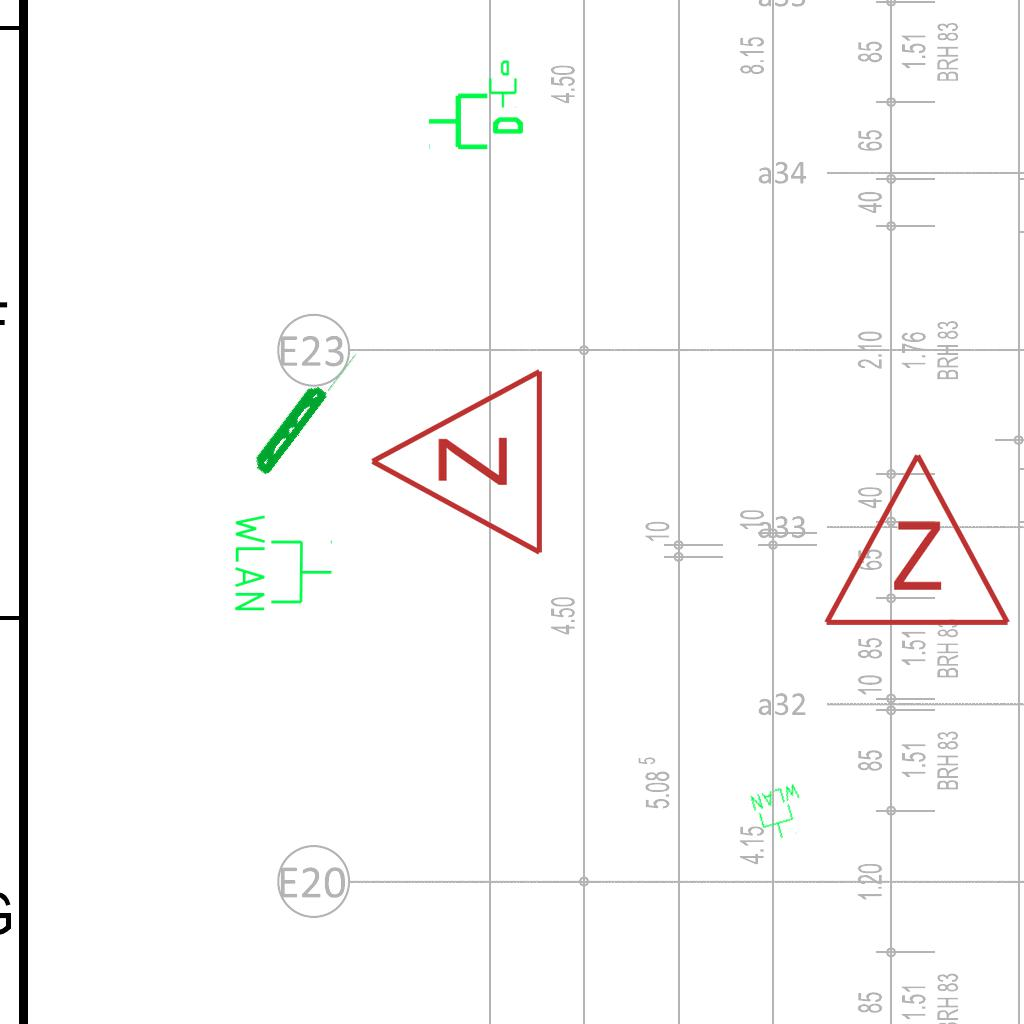Datenanschluss_einfach: (426, 85, 526, 154), (485, 59, 519, 109)
Sicherheitsleuchte_Wandeinbau: (246, 337, 363, 480)
WLAN: (231, 510, 335, 615), (747, 780, 813, 846)
Zimmersignalleuchte: (357, 366, 557, 562), (817, 440, 1013, 640)
